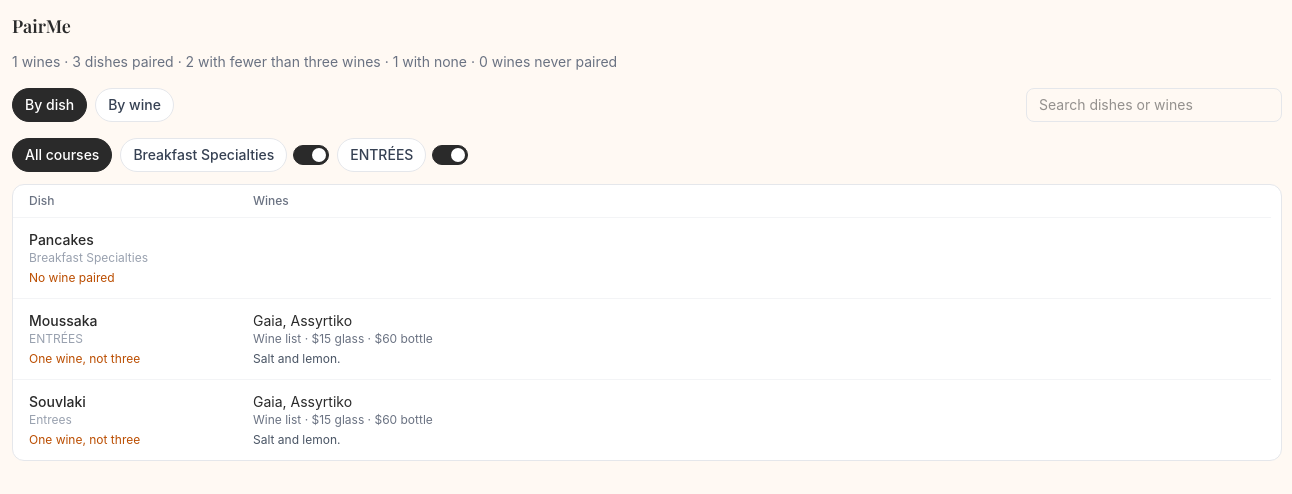
Test case: PairmeSection course switch › C4 the switch writes the course and its new value, then reloads
Click the switch named "Pair this course: Breakfast Specialties": (311, 155) [293,145,329,165]
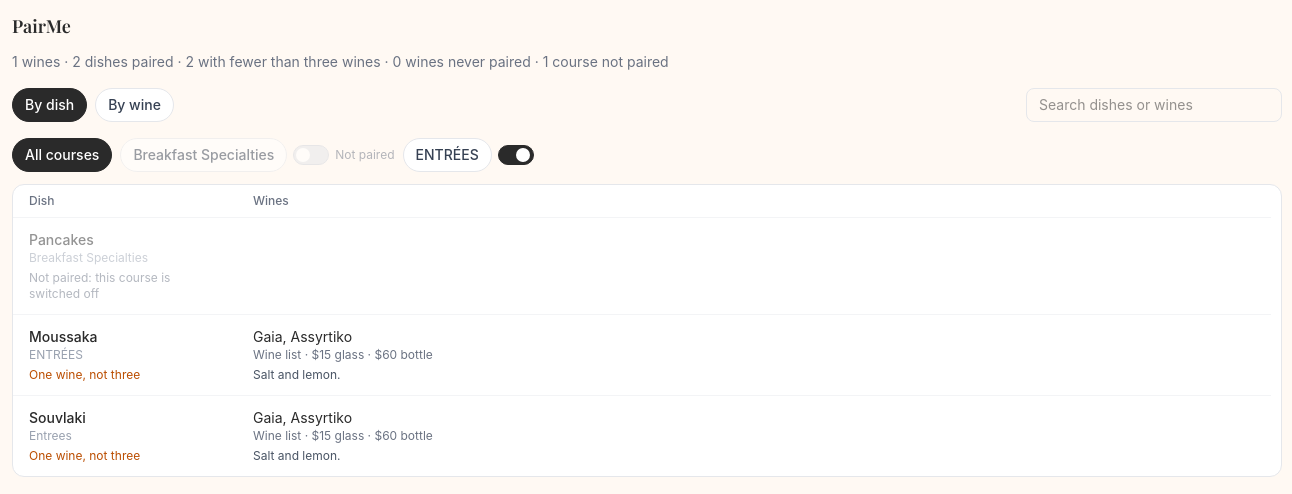
Expected: the element with test id "pairme-course-chip" shows "Not paired", [335,147,394,162]
Expected: the text with test id "pairme-summary" shows "2 dishes paired", [12,53,669,70]
